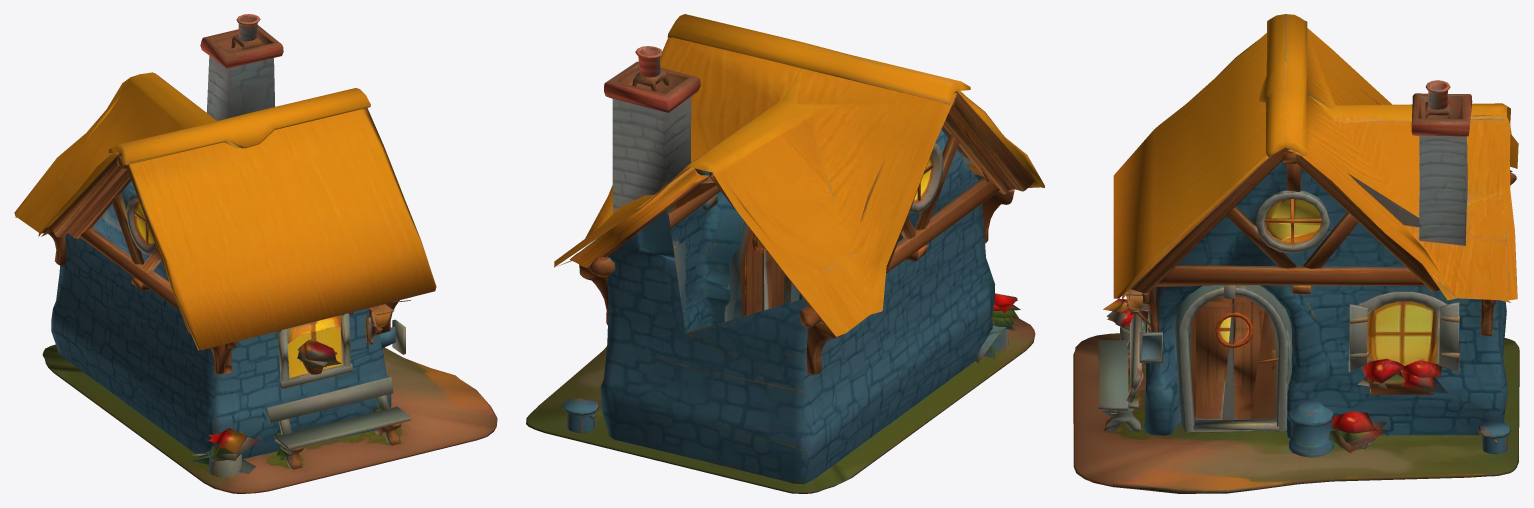
File: cottage.glb
3 views of the same model, side by side, from view 1: azimuth 30°, elevation 25°; view 2: azimuth 150°, elevation 25°; view 3: azimuth 270°, elevation 25° (orthographic). The views are drawn at different scales.
Bounding box in the file's own units: 0.8702 × 0.8326 × 0.9624.
1 material, 1 textured.
